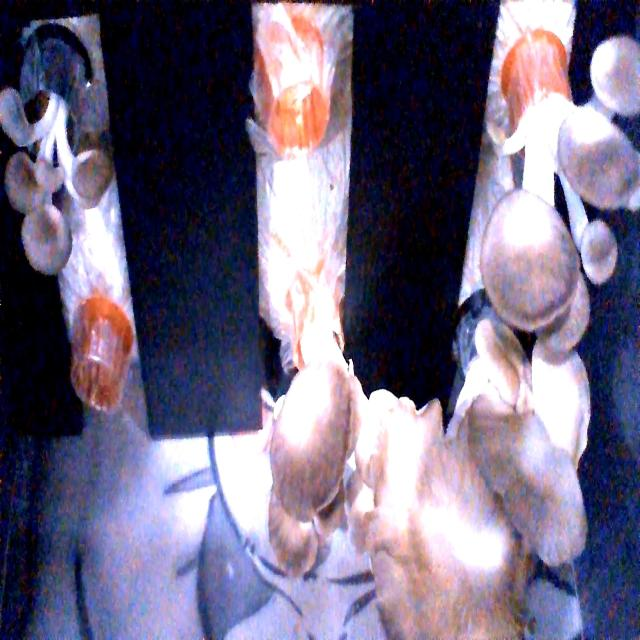big: (376, 322, 618, 640), (474, 60, 640, 363), (267, 276, 391, 589)
nfound: (248, 58, 344, 180), (59, 325, 128, 433)
small: (0, 70, 130, 277)
